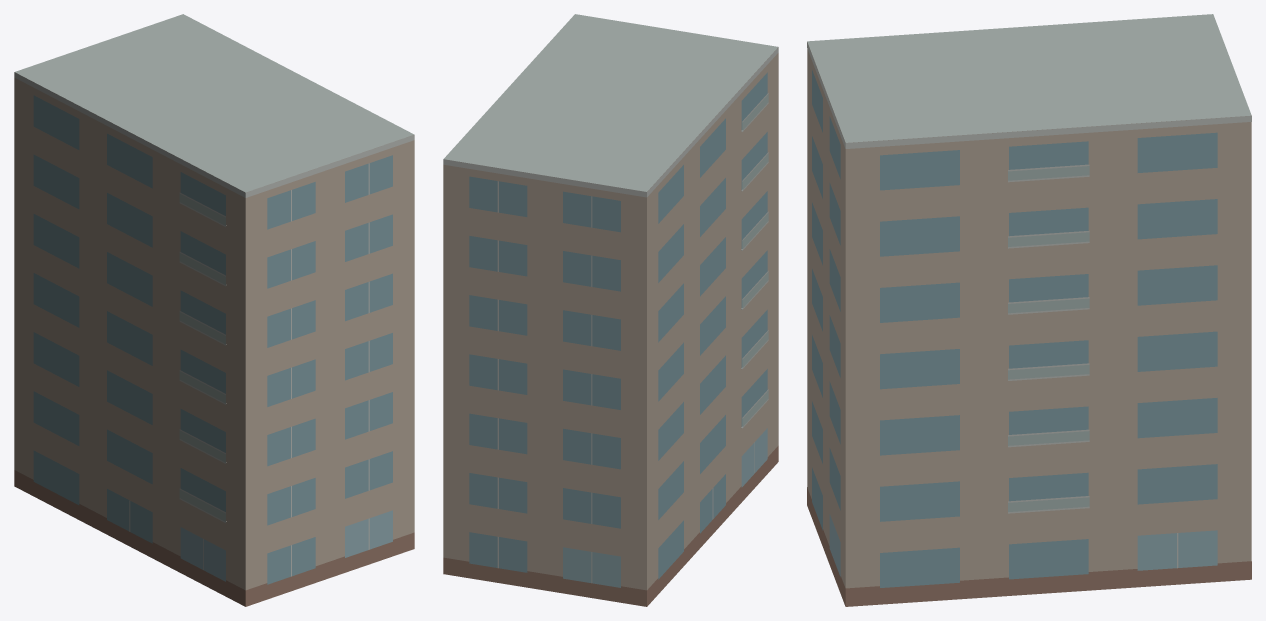
The model's file is survey-upis-33038442.glb.
3 renders of one model, left to right at view 1: azimuth 30°, elevation 25°; view 2: azimuth 150°, elevation 25°; view 3: azimuth 270°, elevation 25°, orthographic. The views are drawn at different scales.
Parts seen in each view (by area): view 1: survey-upis-33038442.tmp; view 2: survey-upis-33038442.tmp; view 3: survey-upis-33038442.tmp.
Part boxes in pixels (bbox=[...]): survey-upis-33038442.tmp: bbox=[14, 14, 414, 606]; survey-upis-33038442.tmp: bbox=[443, 14, 778, 606]; survey-upis-33038442.tmp: bbox=[807, 14, 1251, 606].
Bounding box in the file's own units: 10.95 × 18.35 × 15.95.
